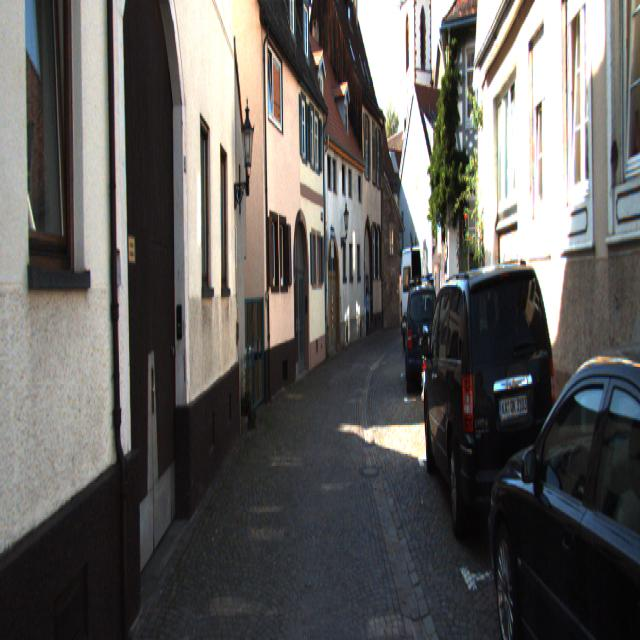Car: (491, 314, 640, 638), (419, 249, 565, 570), (404, 282, 442, 393), (400, 244, 435, 352), (414, 321, 438, 438)
